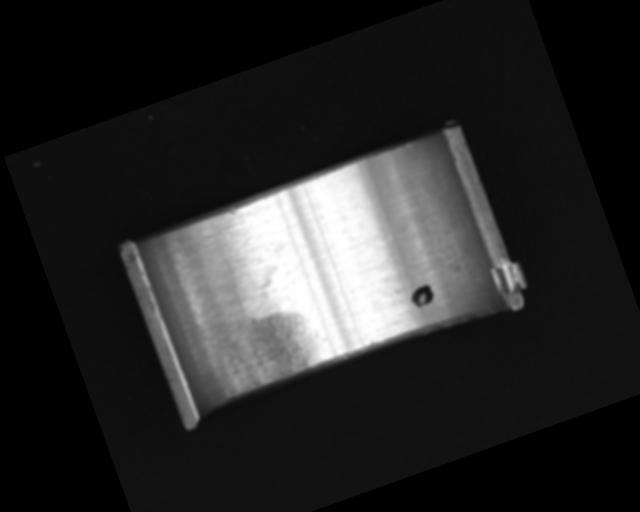blot: (407, 282, 437, 310)
bruise: (226, 205, 238, 217)
scratch: (201, 298, 330, 400)
